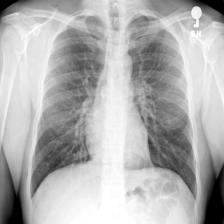normal: (27, 7, 200, 205)
